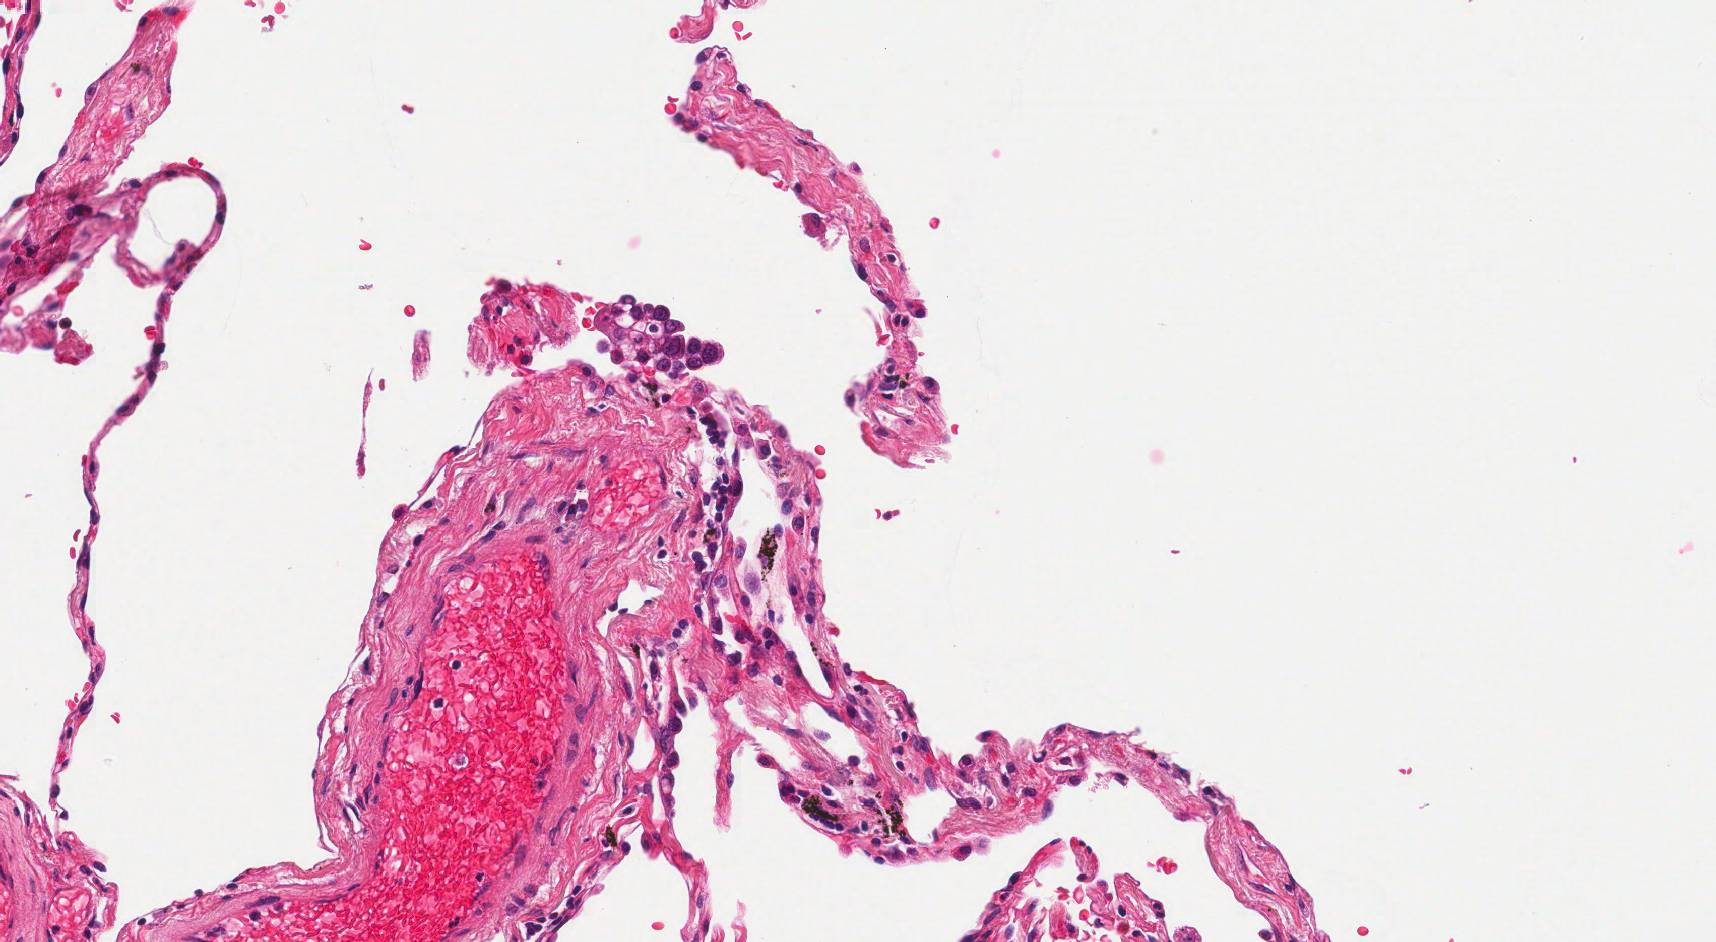stas: (595, 291, 727, 382)
